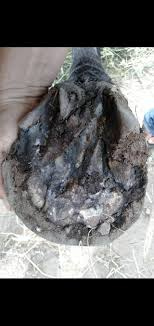horsesole: (2, 85, 148, 246)
